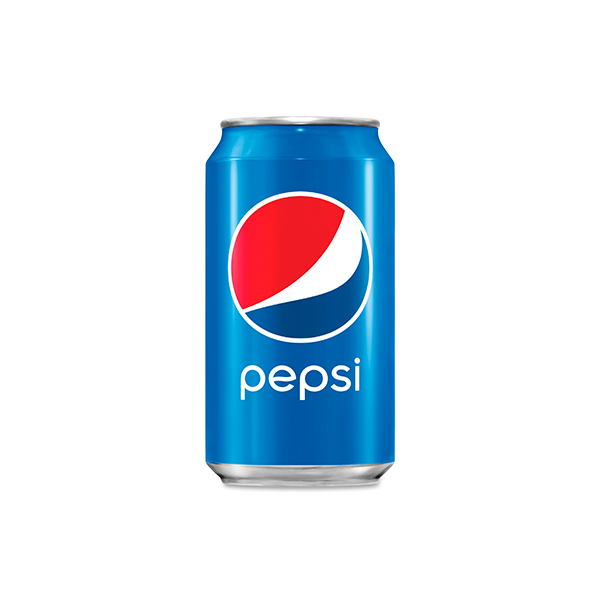pepsi: (225, 183, 372, 343), (225, 188, 372, 343)
